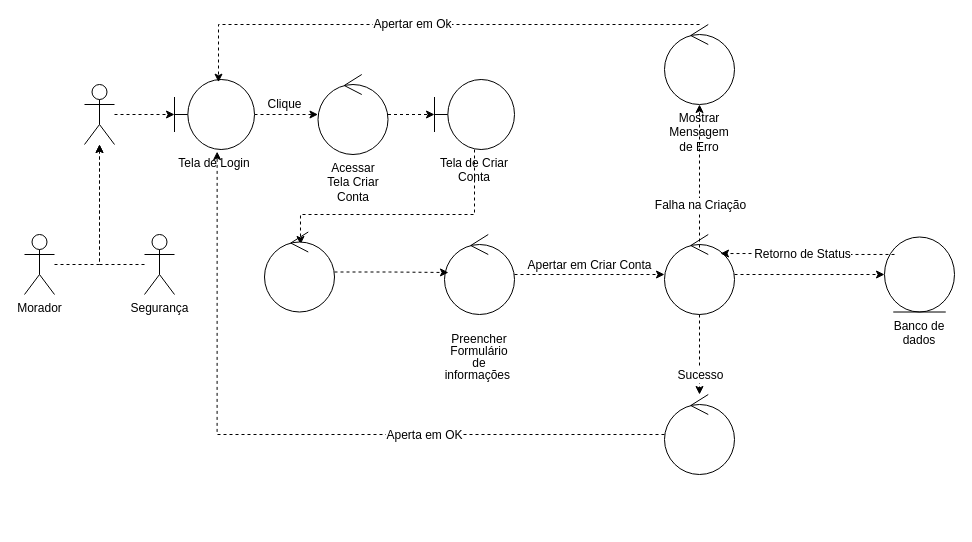
Image size: 972x542. Some labels were removed from this diagram. Each missing label, with the centre of its shape:
"Mostrar Formulário" goes at pixel 299 271.
"Mostrar Mensagem de Sucesso" goes at pixel 699 434.
"Requisitar Criação de Conta" goes at pixel 699 274.
"Usuário" goes at pixel 99 114.
